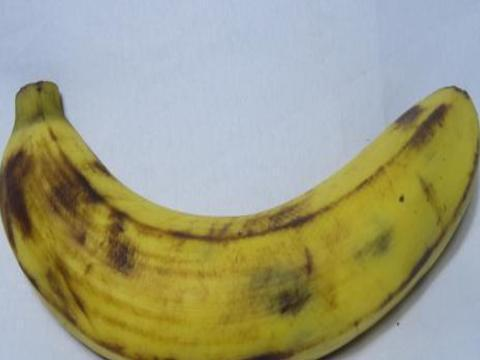overripe: (0, 61, 479, 359)
